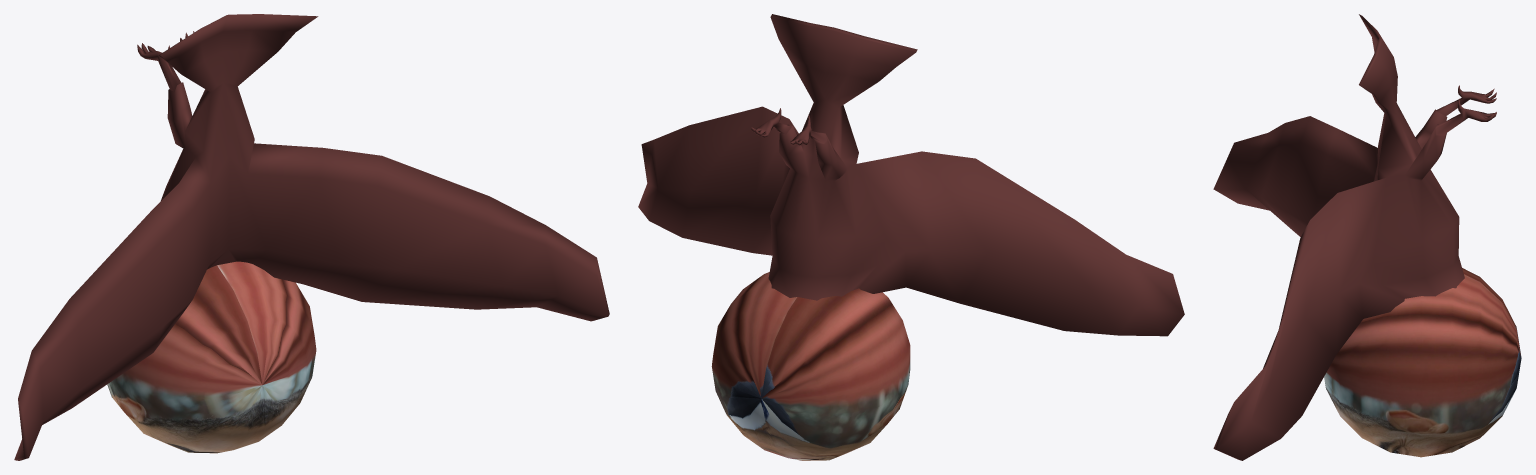
The model's file is eagle001.fbx.
3 renders of one model, left to right at view 1: azimuth 30°, elevation 25°; view 2: azimuth 150°, elevation 25°; view 3: azimuth 270°, elevation 25°, orthographic. The views are drawn at different scales.
Parts seen in each view (by area): view 1: Sphere; view 2: Sphere; view 3: Sphere.
Part boxes in pixels (box(x1,y1,x2,y2)): Sphere: box(14, 14, 609, 460); Sphere: box(638, 14, 1184, 460); Sphere: box(1213, 14, 1521, 460).
Bounding box in the file's own units: 1534 × 1117 × 762.
